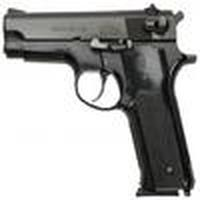gun: (1, 4, 193, 200)
